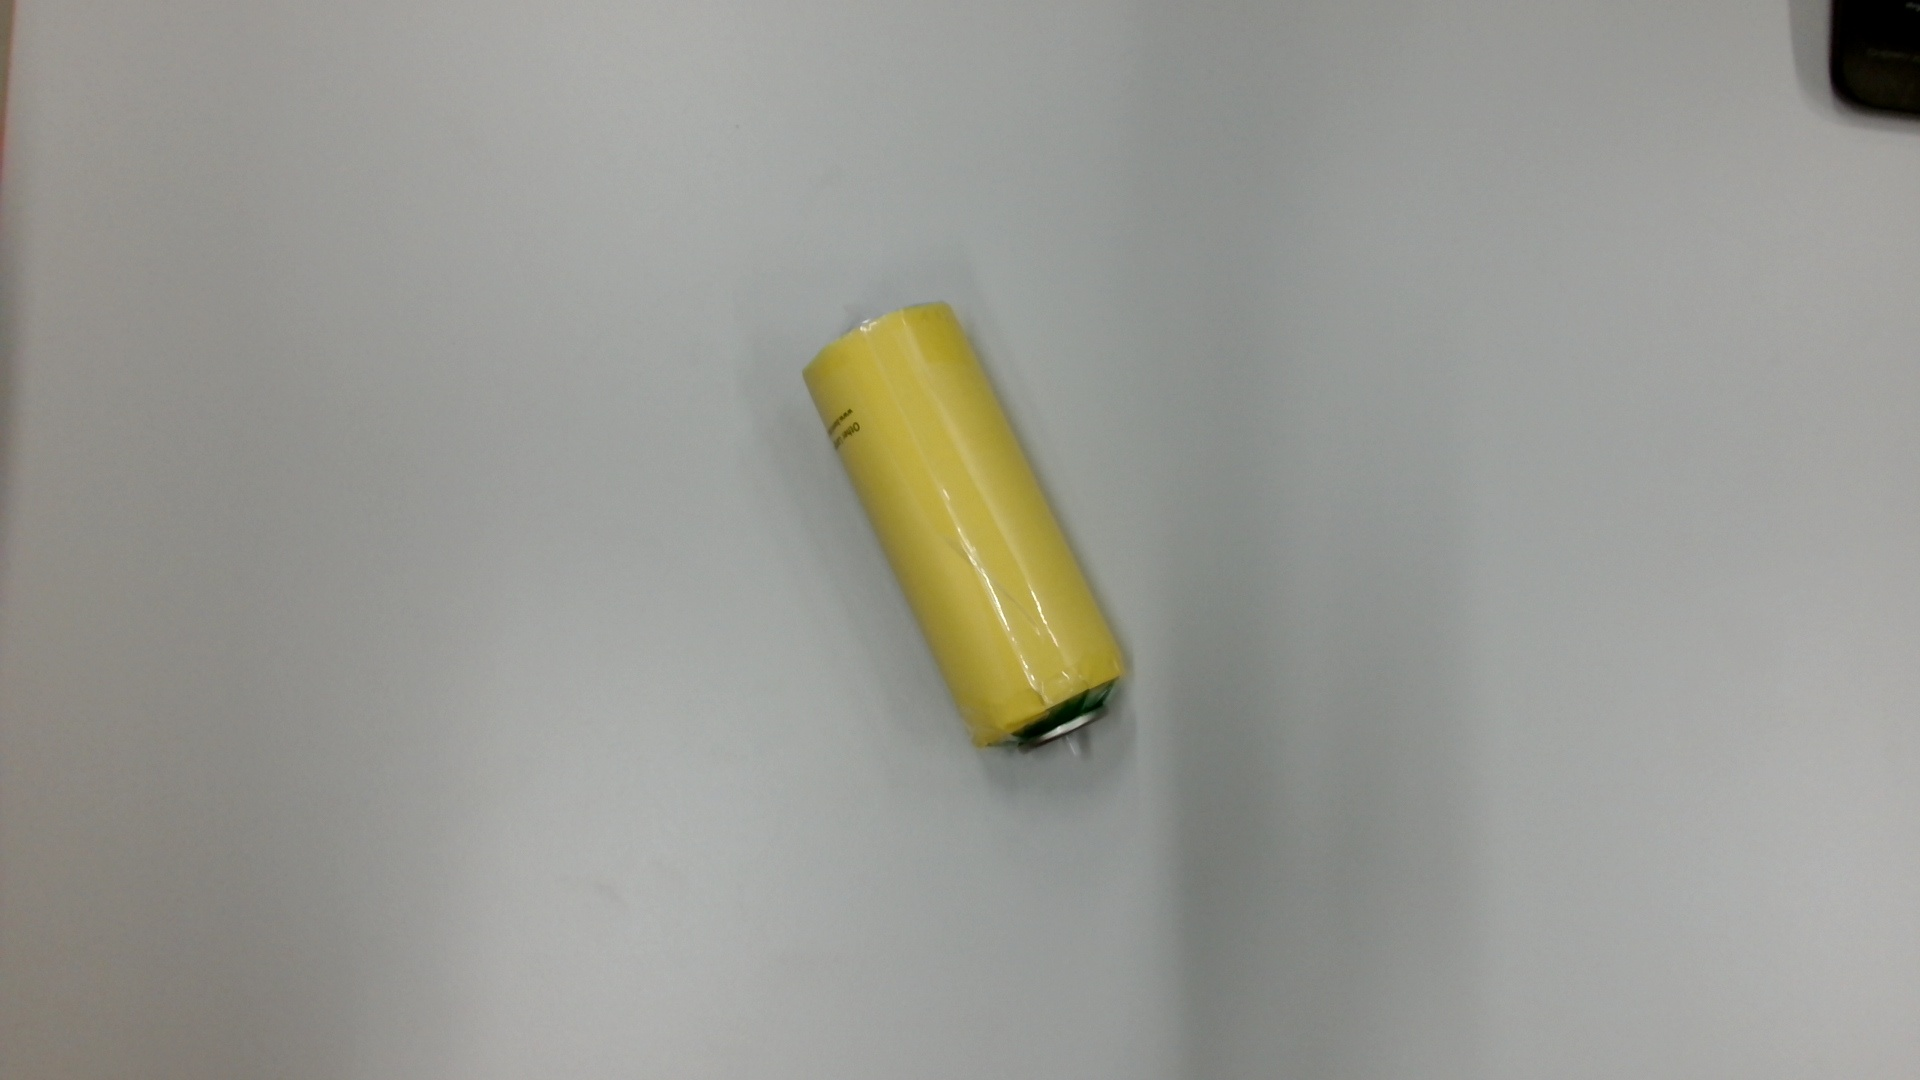Cylinder: (794, 295, 1143, 775)
